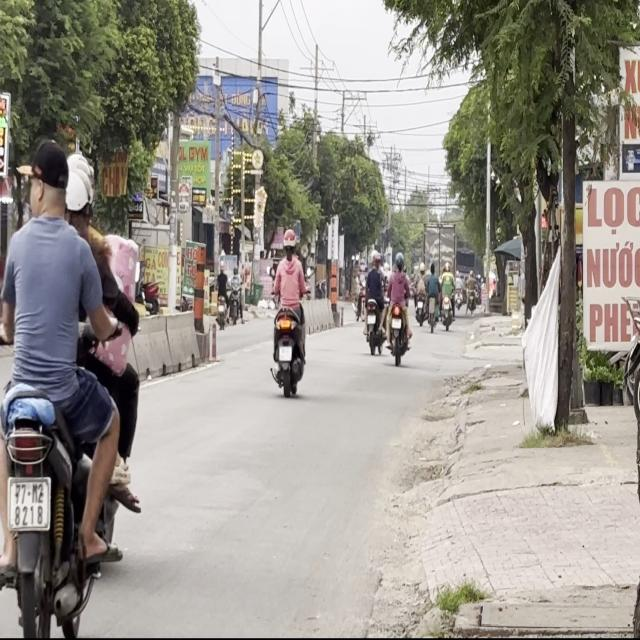helmet: (63, 158, 94, 234)
licenseplate: (0, 138, 142, 636)
motorcyclist: (29, 139, 69, 215)
nohelmet: (8, 479, 50, 530)
